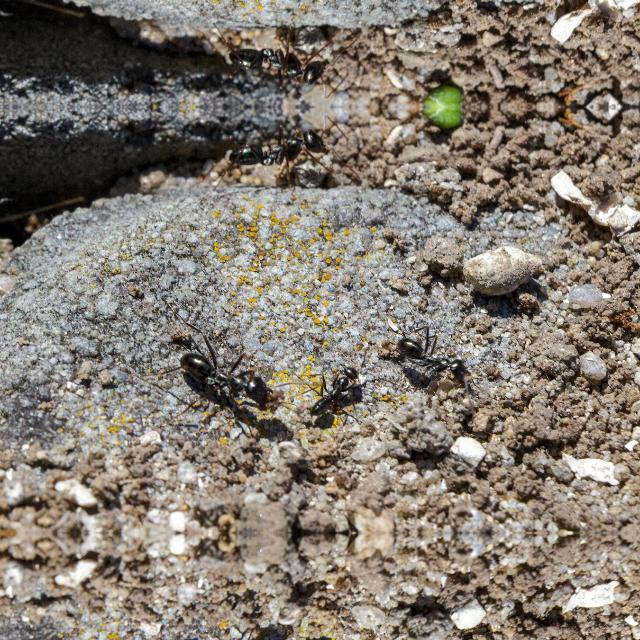Cataglyphis: (162, 333, 290, 415), (288, 356, 372, 434), (221, 122, 339, 176), (221, 36, 339, 90), (386, 328, 476, 382)
